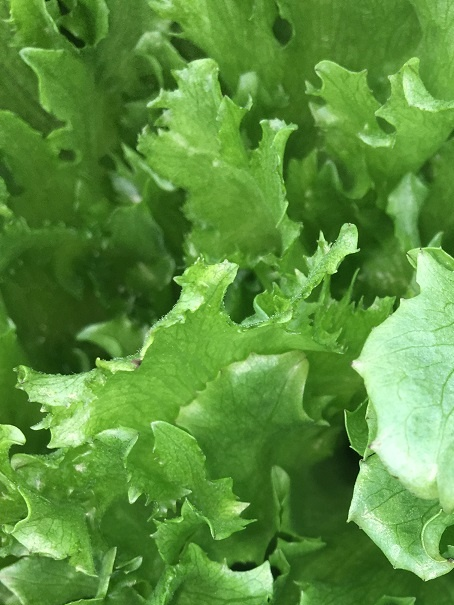tipburn: (127, 351, 150, 374), (363, 436, 383, 456), (346, 354, 366, 372), (8, 363, 24, 380), (441, 552, 454, 571), (14, 375, 28, 389), (414, 244, 428, 257)
